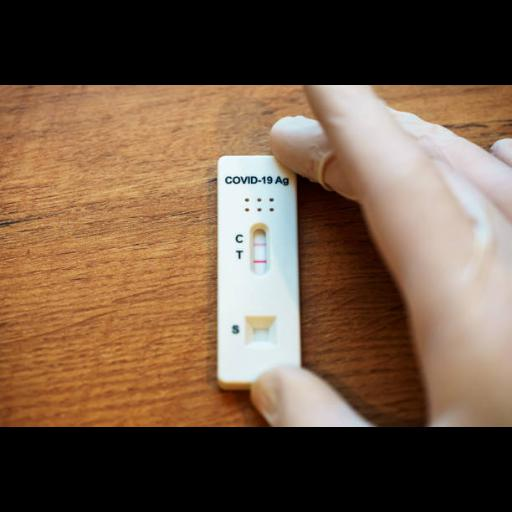Pos: (217, 156, 299, 380)
